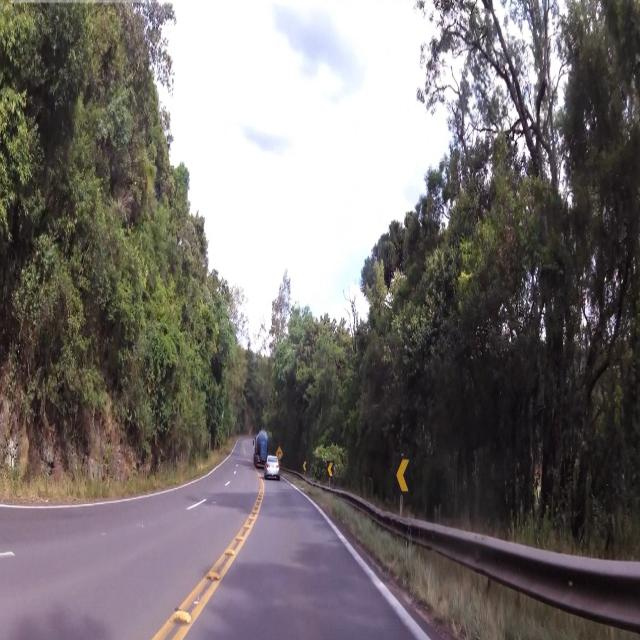Del: (396, 454, 409, 499)
